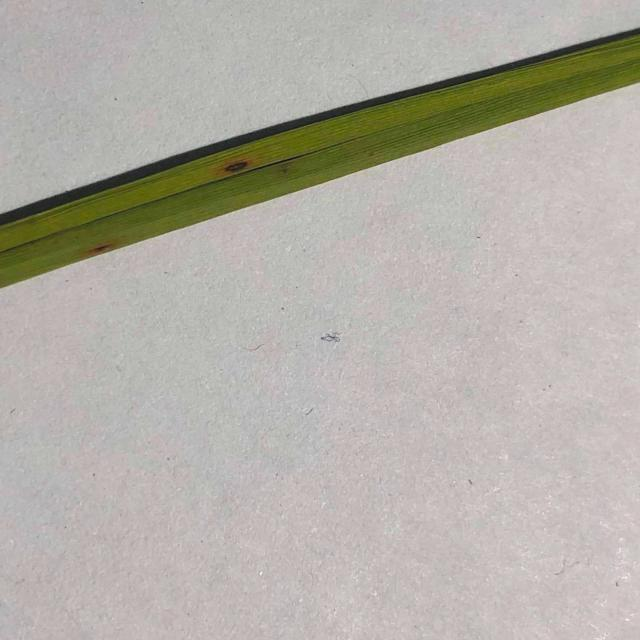Blast: (218, 156, 256, 176)
